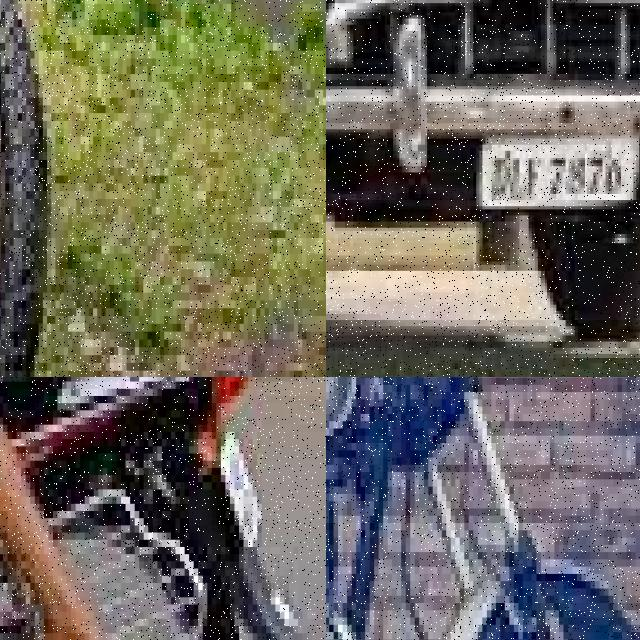bike: (0, 377, 325, 640), (326, 377, 640, 640)
car: (326, 0, 640, 283)
